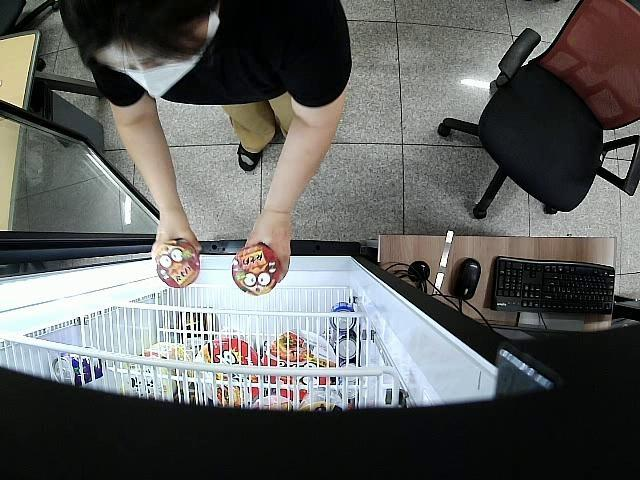06_nuguri_S: (230, 244, 281, 297), (153, 240, 204, 286)
